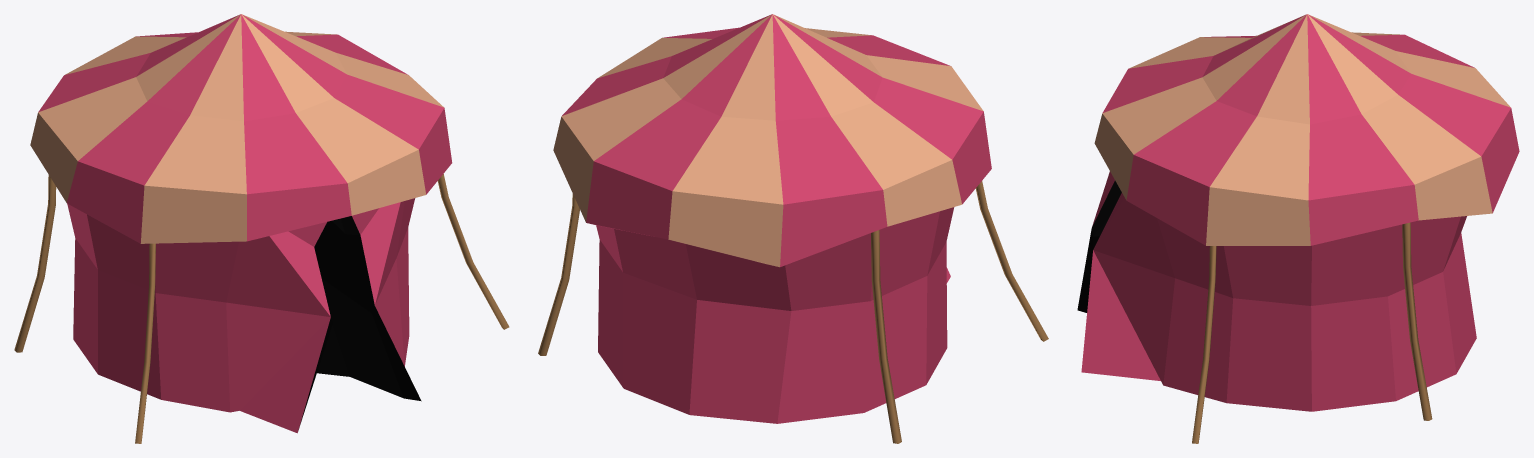
Rendered from Tent_Pink_2.fbx.
The picture shows the model from 3 angles, left to right: view 1: azimuth 30°, elevation 25°; view 2: azimuth 150°, elevation 25°; view 3: azimuth 270°, elevation 25°; orthographic projection. The views are drawn at different scales.
Parts seen in each view (by area): view 1: polySurface7; view 2: polySurface7; view 3: polySurface7.
Boxes of the visible parts, box(x1,y1,x2,y2) form: polySurface7: box(14, 14, 509, 443); polySurface7: box(538, 14, 1048, 443); polySurface7: box(1077, 14, 1519, 443).
Bounding box in the file's own units: 99.01 × 79.28 × 94.46.
